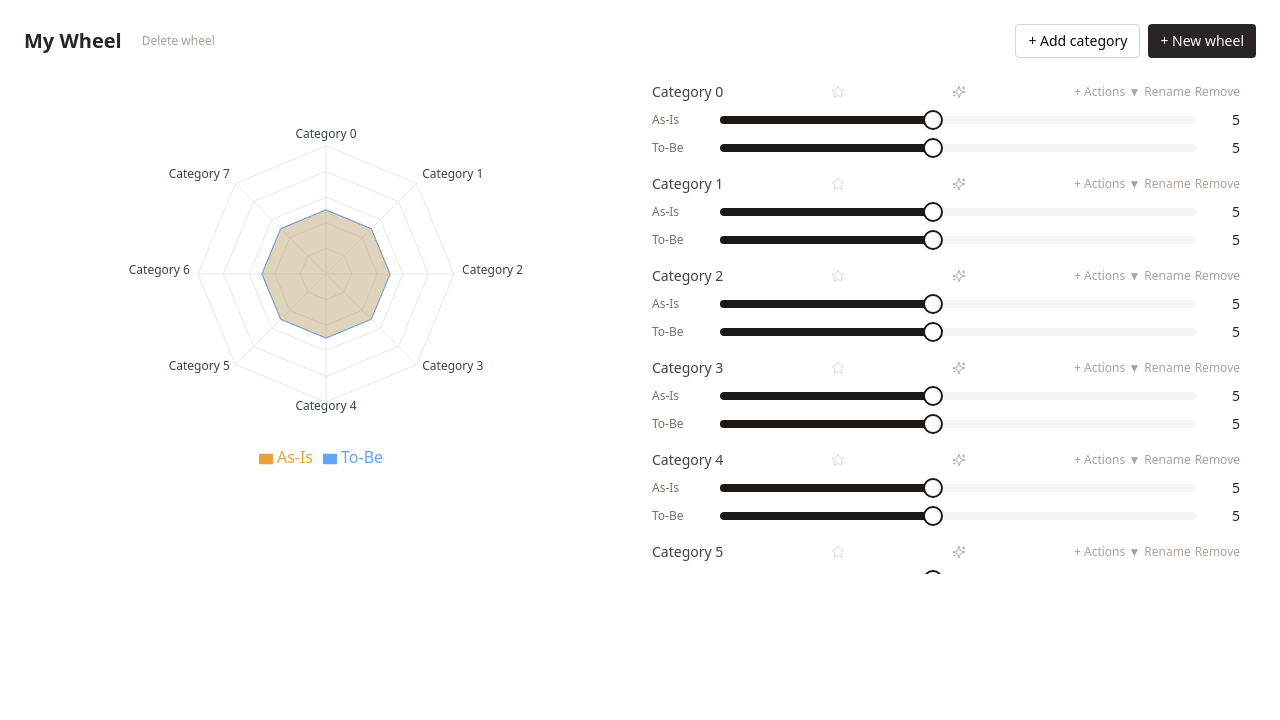
Test: WheelPage › category gate and auto-naming (POLISH-06) › free-tier user clicking Add category when count is 8 sees upgrade prompt
Click the button "+ Add category".
click(1078, 41)  # box [1015,24,1140,58]
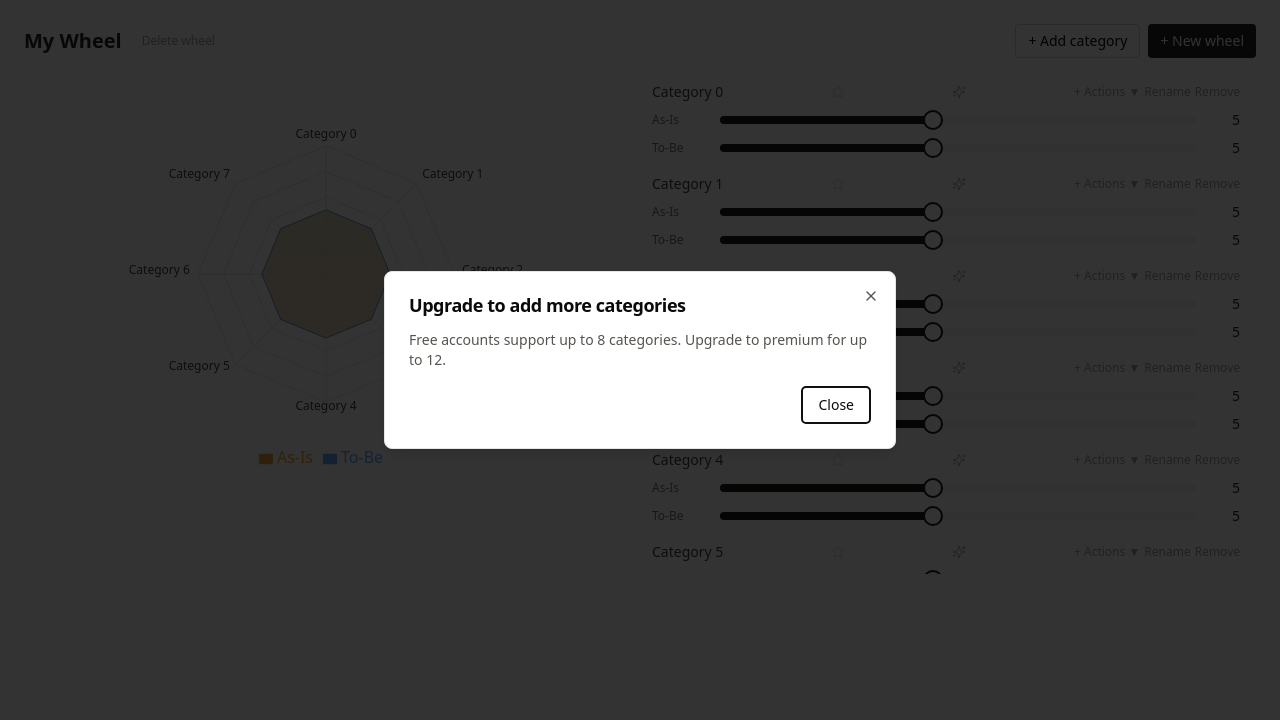
expect the text "Upgrade to premium" is shown: met, box [409,330,867,369]
